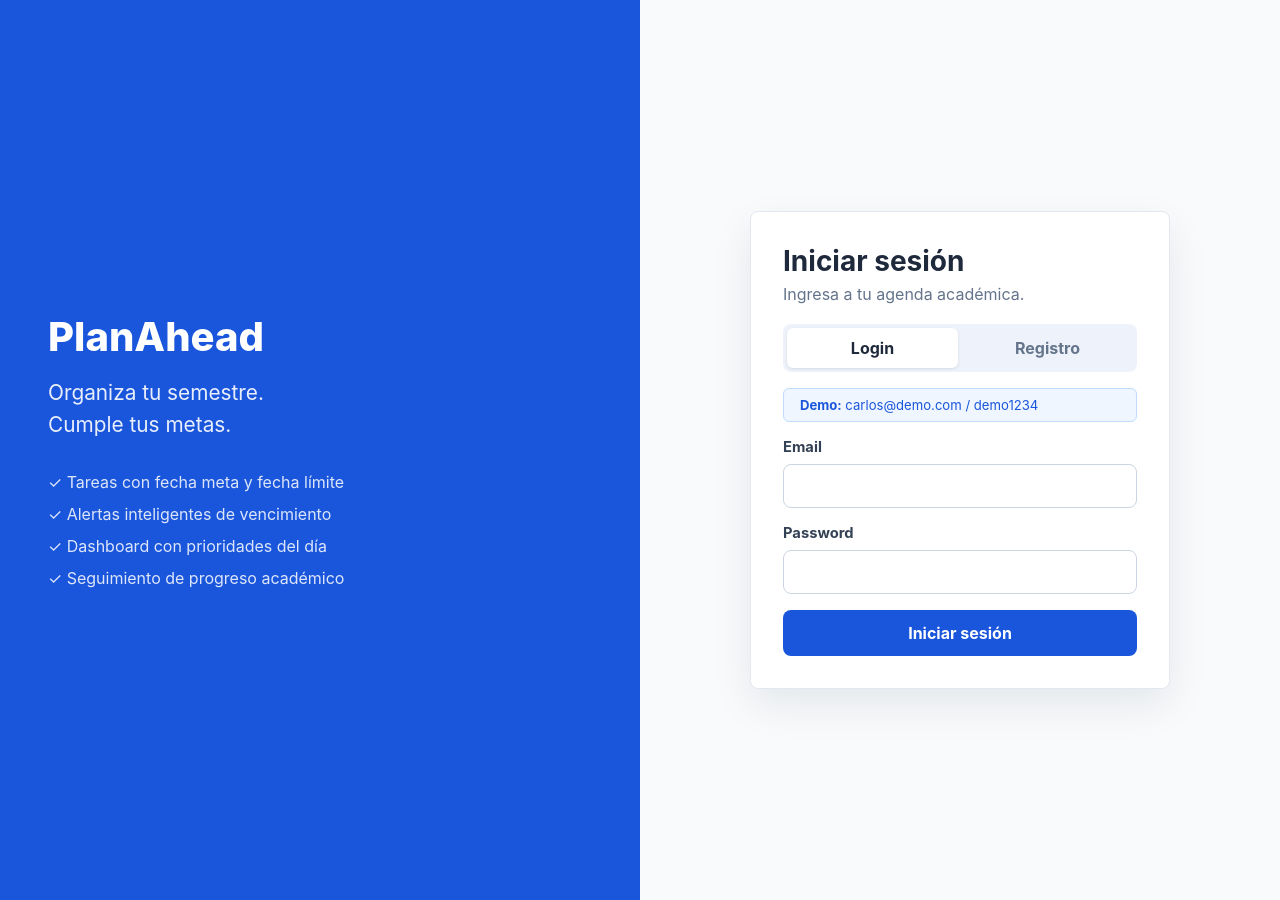
Test case: LoginPage › muestra error cuando las credenciales son incorrectas
Step 1. Type "ana@test.com" into the field labelled "Email" → (960, 486), box left=783, top=464, right=1137, bottom=508
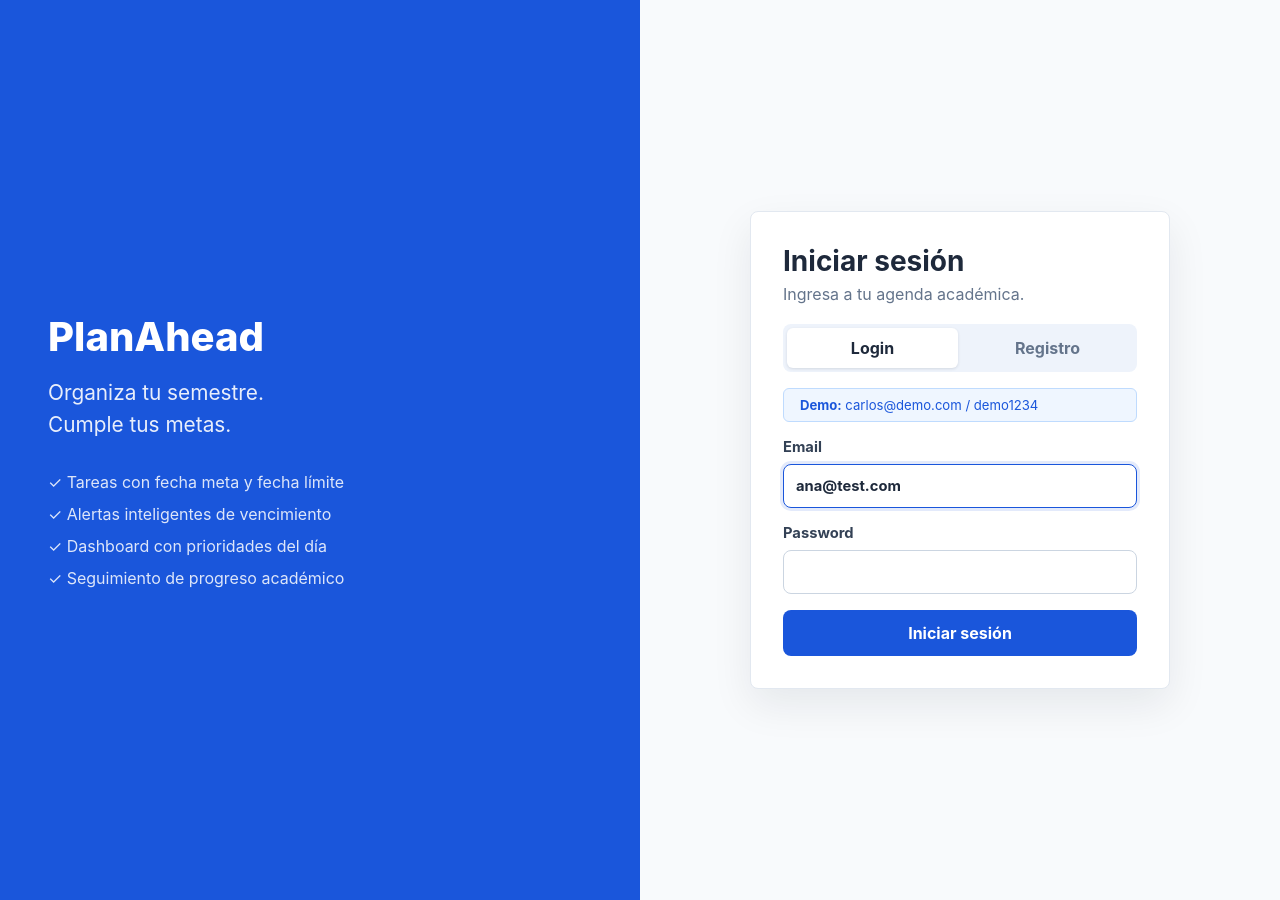
Step 2. Type "incorrecta" into the password field labelled "Password" → (960, 572), box left=783, top=550, right=1137, bottom=594
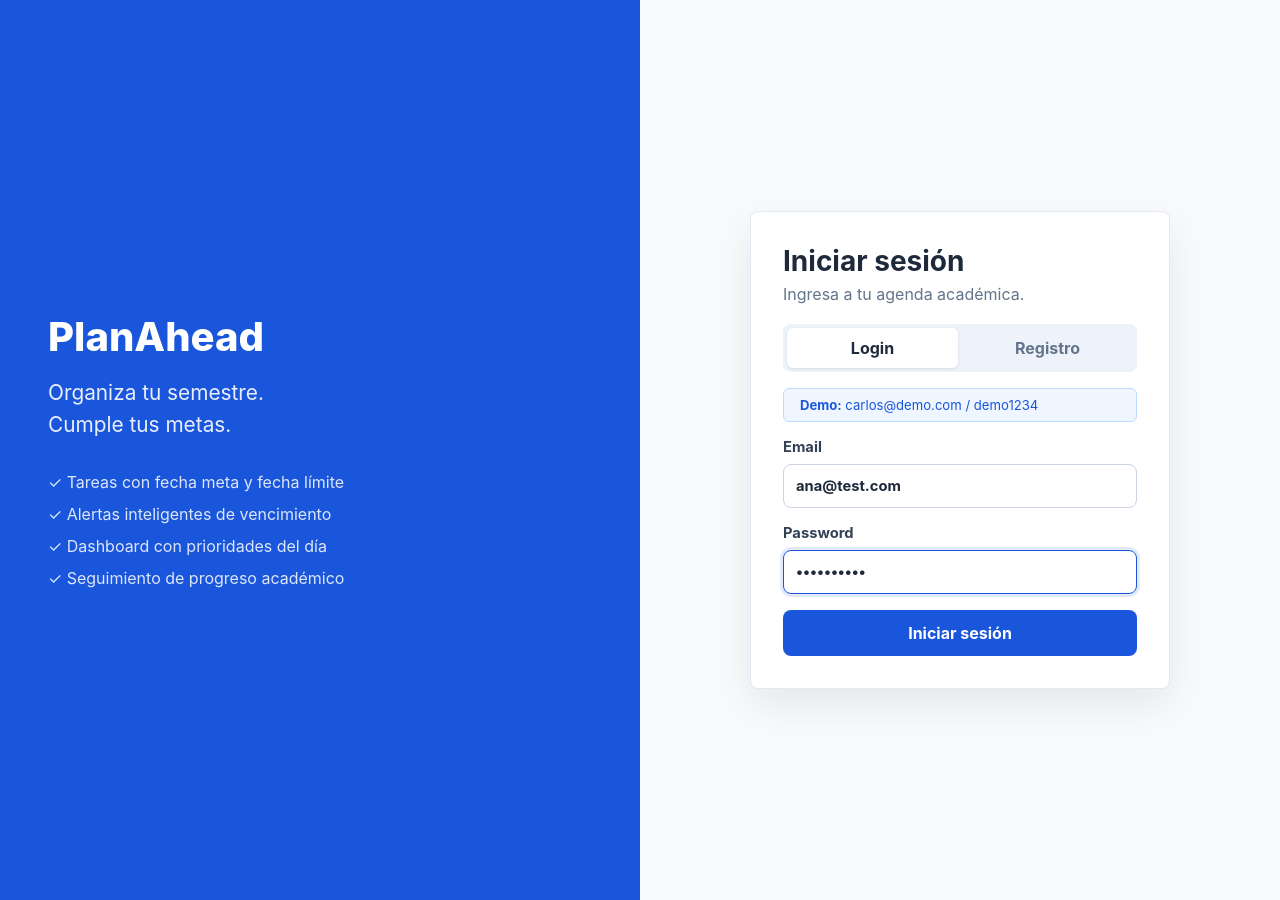
Step 3. Click the button "Iniciar sesión" → click(960, 633), box left=783, top=610, right=1137, bottom=656
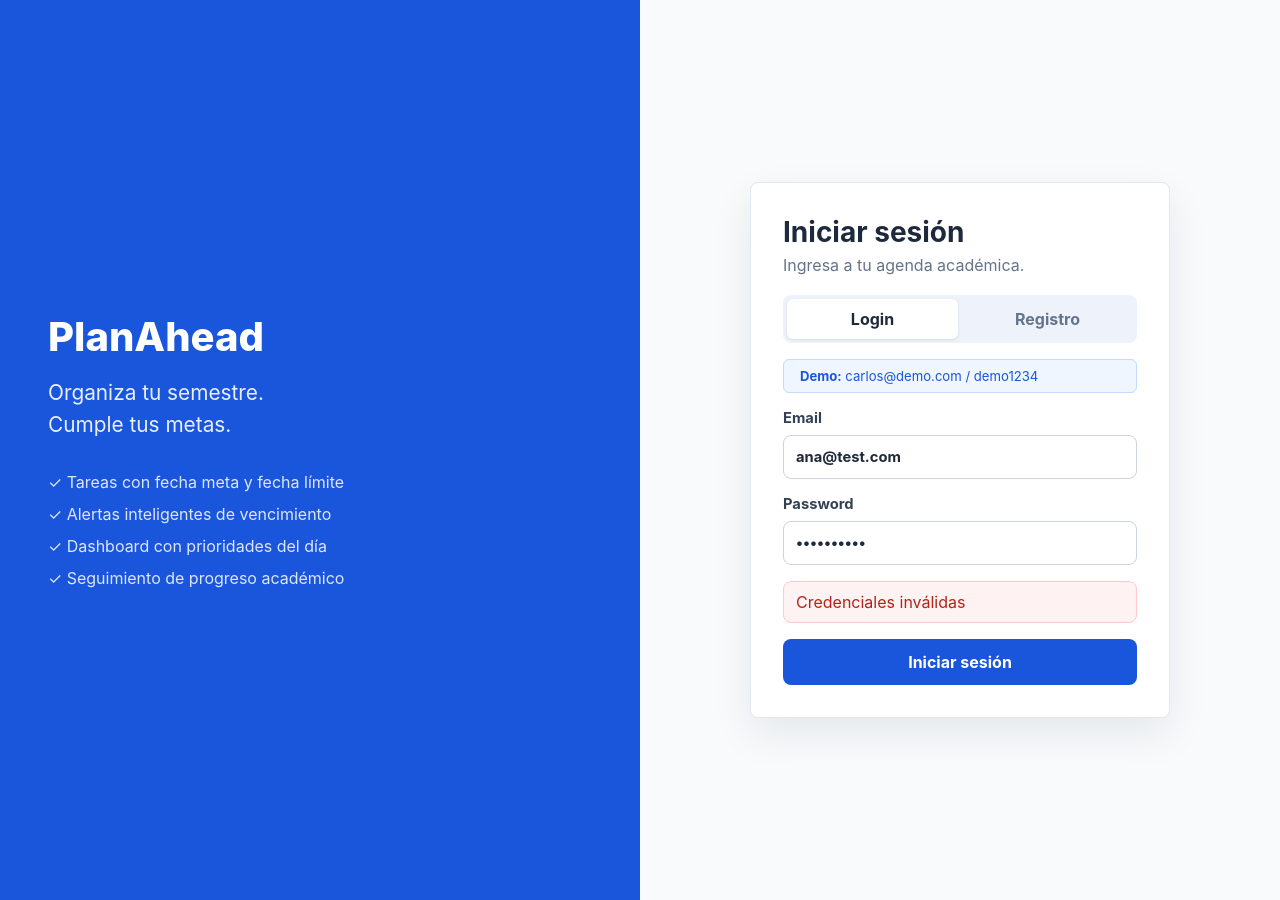
Check: the message reads "Credenciales inválidas", box left=796, top=592, right=966, bottom=612
